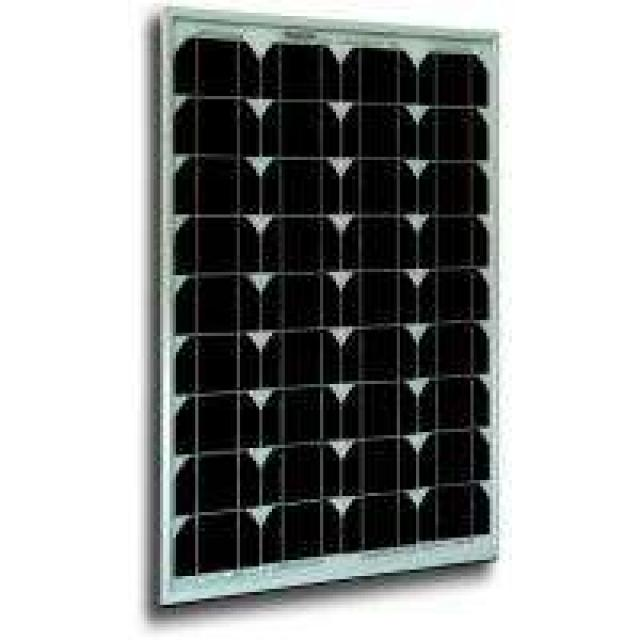clean-solar-panel: (161, 11, 494, 578)
